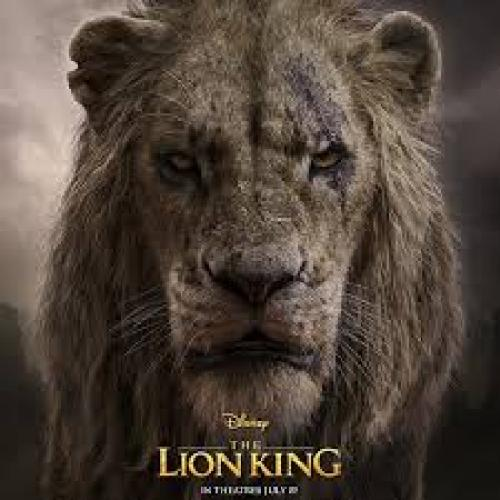lion-endangered: (49, 0, 468, 500)
